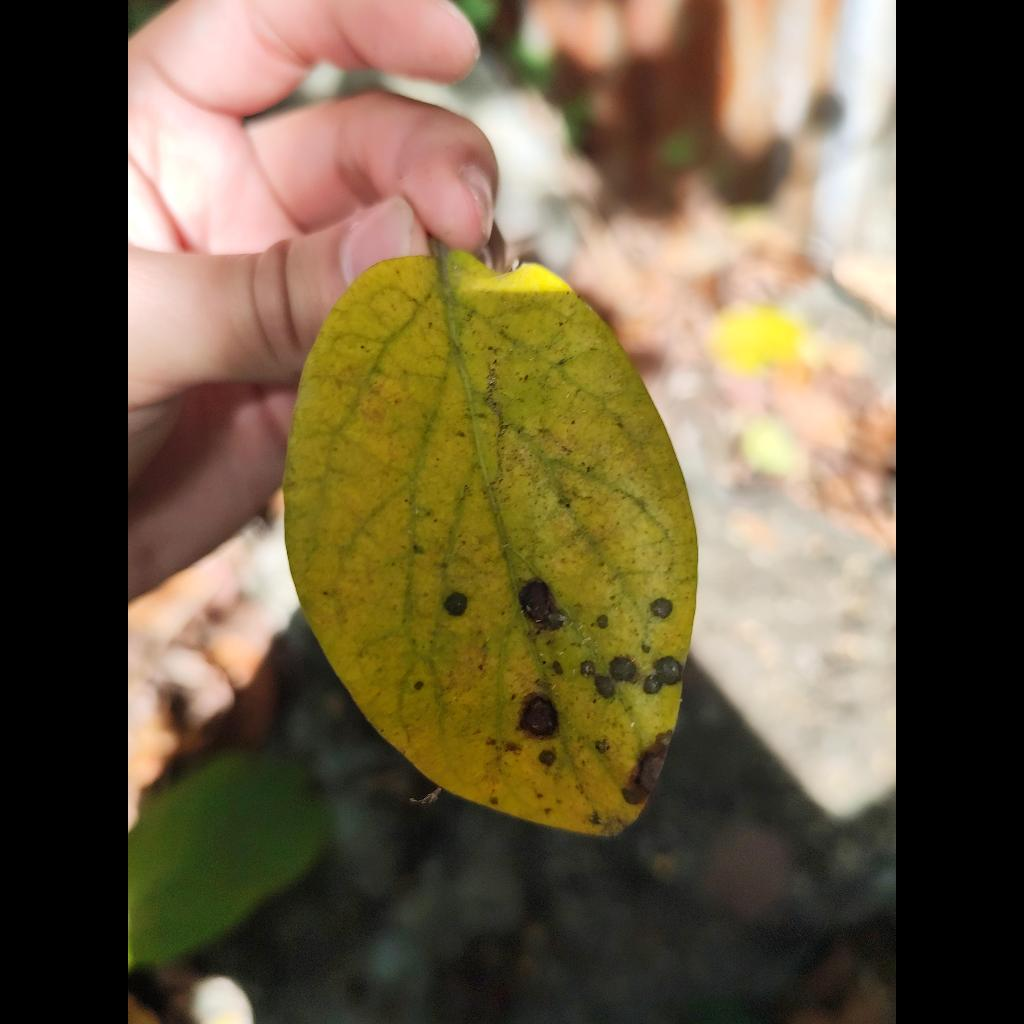nutrient_deficiency: (284, 249, 696, 835)
